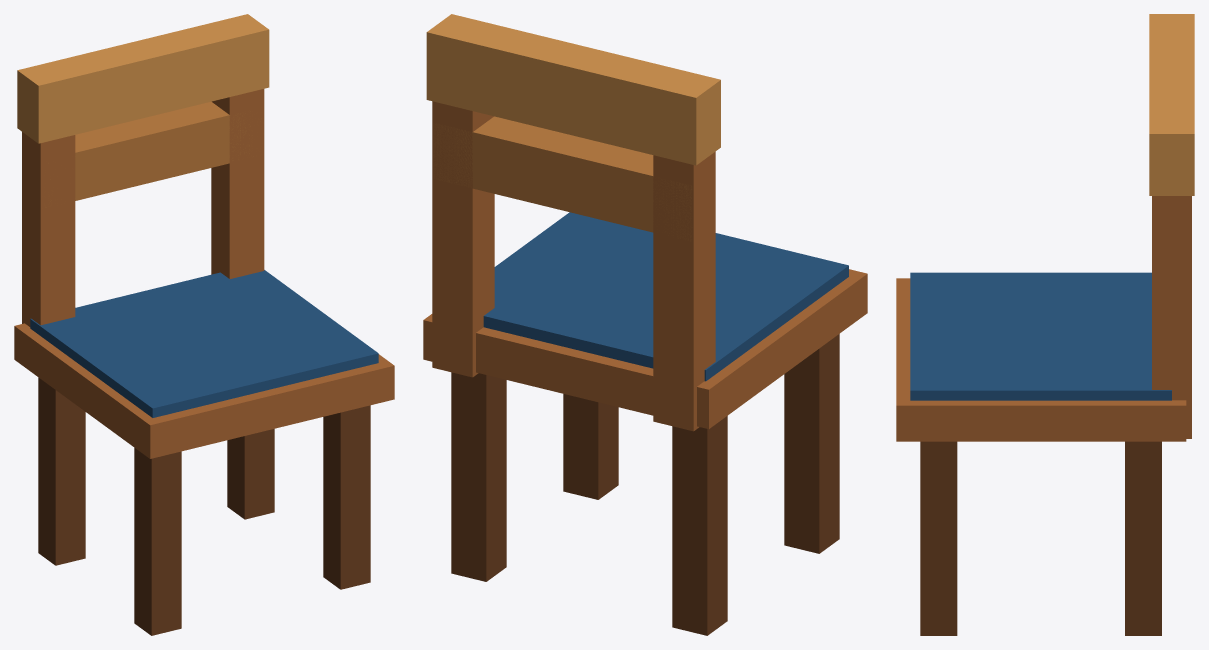
Rendered from chair.glb.
3 views of the same model, side by side, from view 1: azimuth 30°, elevation 25°; view 2: azimuth 150°, elevation 25°; view 3: azimuth 270°, elevation 25° (orthographic). The views are drawn at different scales.
Parts seen in each view (by area): view 1: GS018_Chair; view 2: GS018_Chair; view 3: GS018_Chair.
Part boxes in pixels (x1,y1,x2,y2): GS018_Chair: (14, 14, 394, 635); GS018_Chair: (423, 14, 867, 635); GS018_Chair: (896, 14, 1194, 635).
Bounding box in the file's own units: 0.53 × 0.98 × 0.525.
